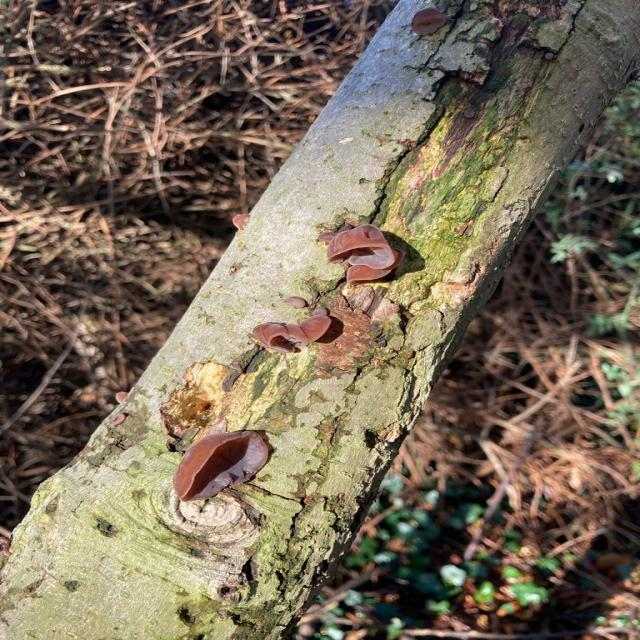Fase Muda: (167, 419, 276, 501), (323, 218, 407, 288), (243, 308, 346, 360)
